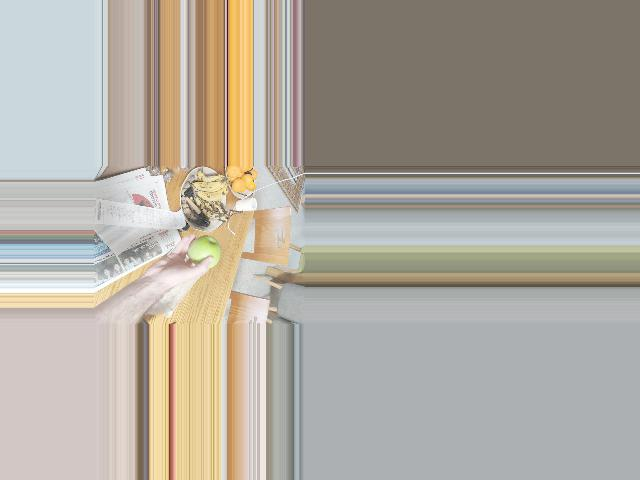apple: (183, 235, 223, 270)
